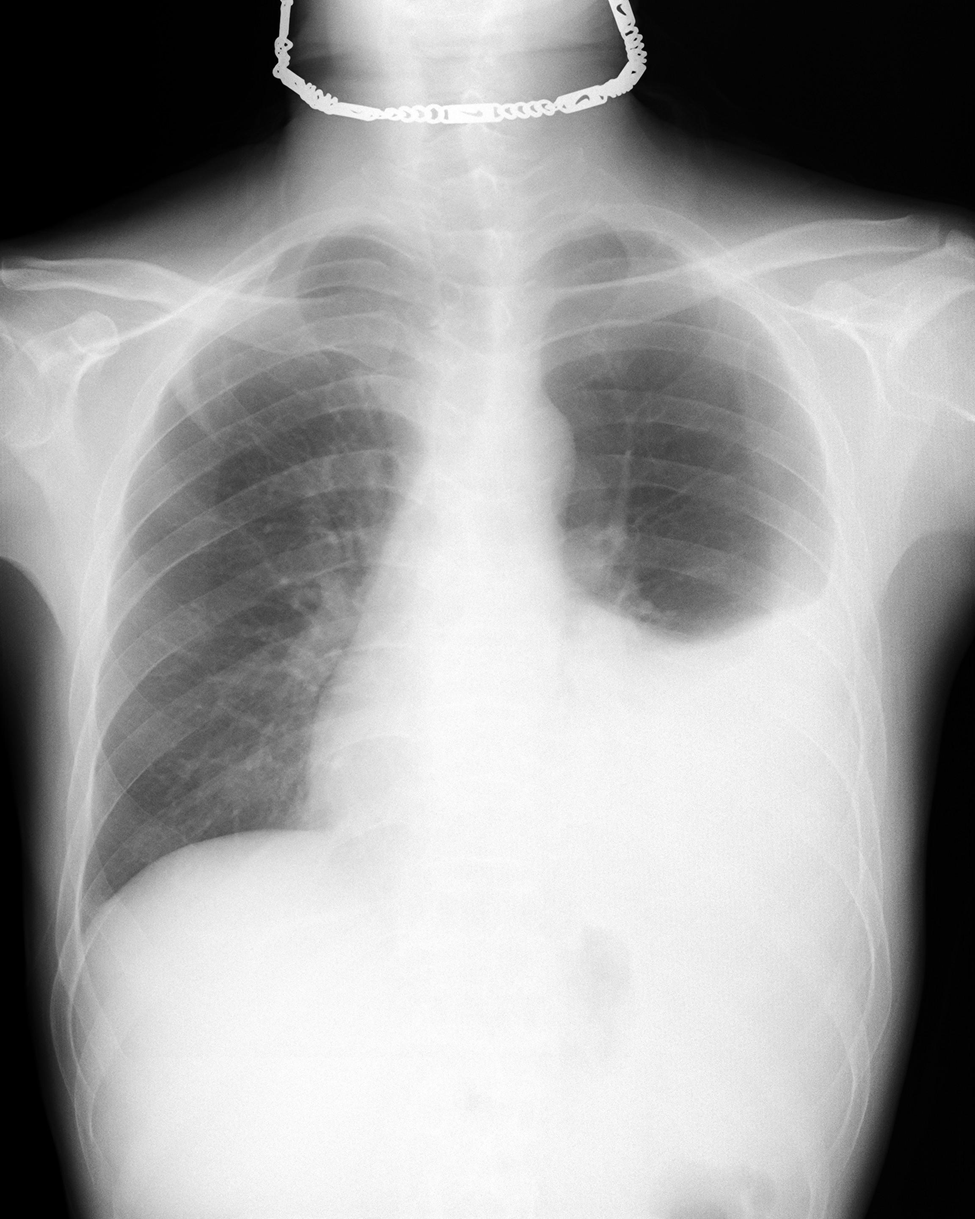Pleural thickening: (166, 352, 220, 444)
